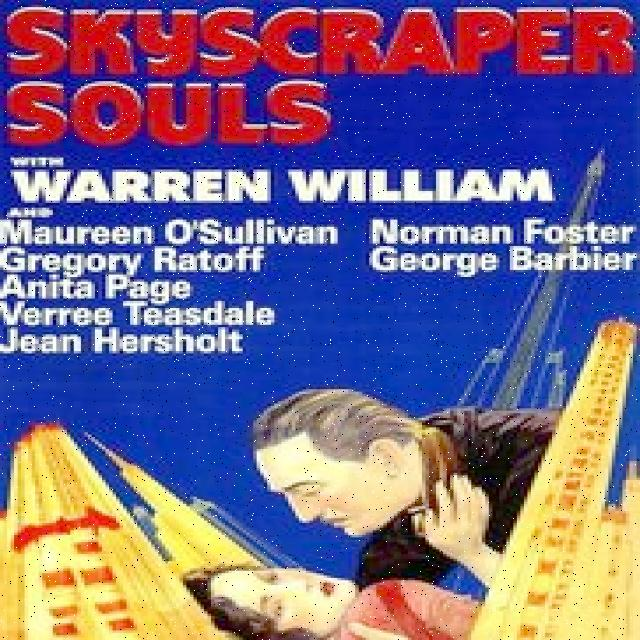movie-judul: (4, 0, 640, 149)
picture: (0, 318, 640, 639)
